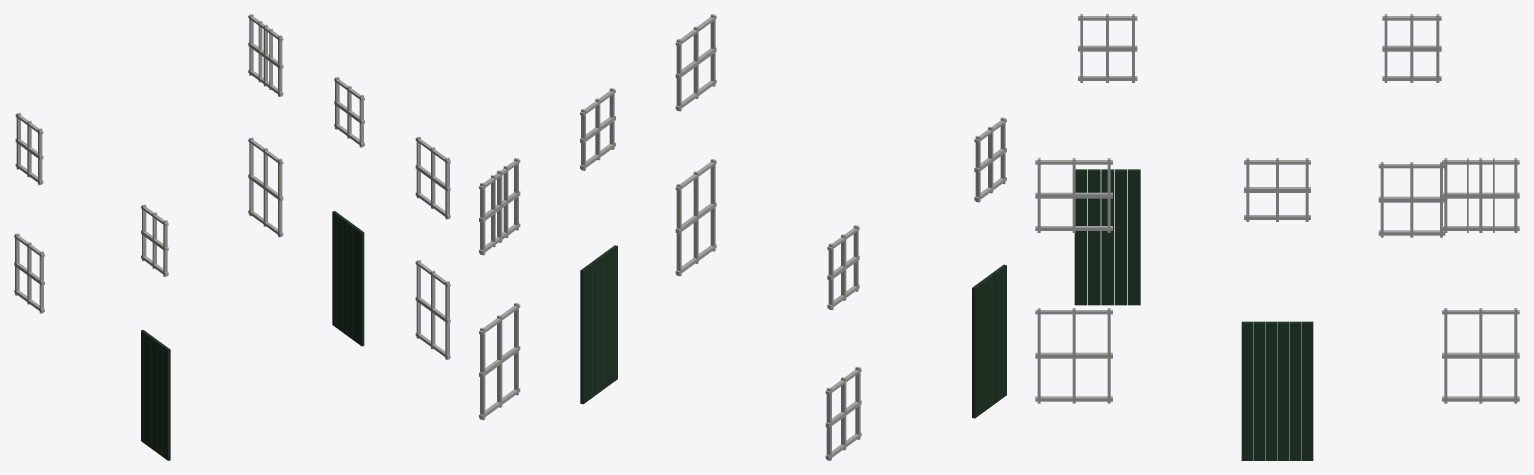
Rendered from SM_Bld_134_Wood.glb.
3 renders of one model, left to right at view 1: azimuth 30°, elevation 25°; view 2: azimuth 150°, elevation 25°; view 3: azimuth 270°, elevation 25°, orthographic. The views are drawn at different scales.
Visible parts, largest first — view 1: SM_Bld_134_Wood; view 2: SM_Bld_134_Wood; view 3: SM_Bld_134_Wood.
Part boxes in pixels (x1,y1,x2,y2): SM_Bld_134_Wood: [14, 14, 450, 460]; SM_Bld_134_Wood: [479, 14, 1006, 460]; SM_Bld_134_Wood: [1035, 14, 1519, 460].
Size of the model in its own units: 5.07 by 4.49 by 6.53.
